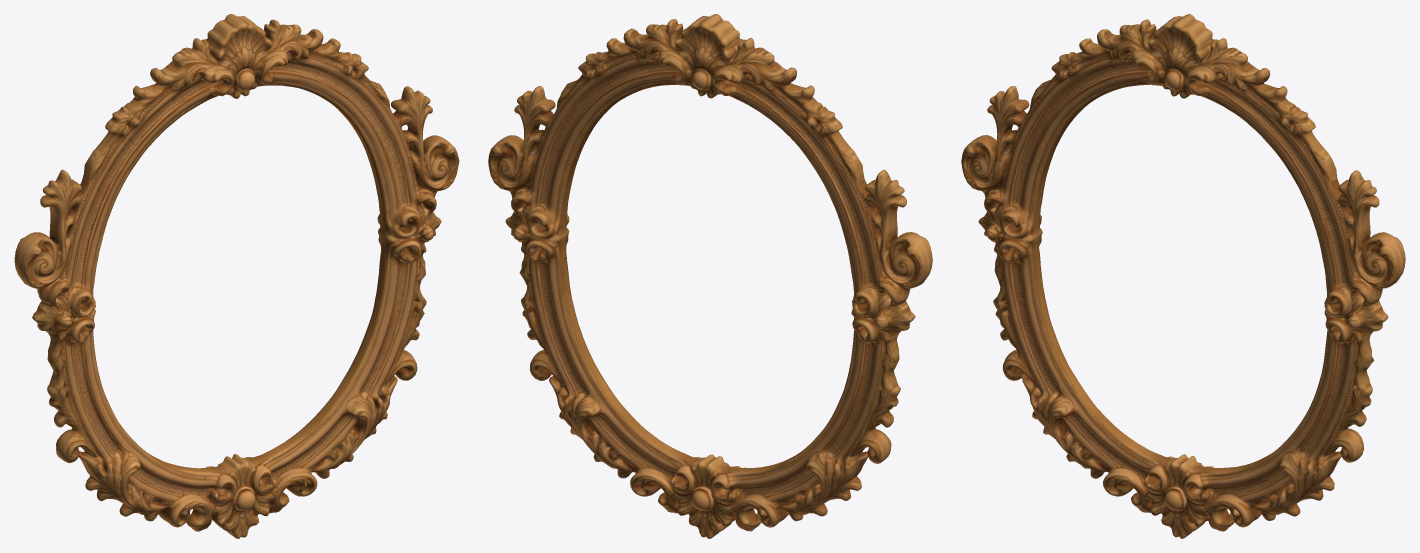
File: ornate-gold-frame.glb
The picture shows the model from 3 angles, left to right: view 1: azimuth 30°, elevation 25°; view 2: azimuth 150°, elevation 25°; view 3: azimuth 330°, elevation 25°; orthographic projection.
Visible parts, largest first — view 1: tripo_node_4b47f6c4-8ee1-4042-83e9-e341a03886d8; view 2: tripo_node_4b47f6c4-8ee1-4042-83e9-e341a03886d8; view 3: tripo_node_4b47f6c4-8ee1-4042-83e9-e341a03886d8.
Part boxes in pixels (left/top/right/bottom): tripo_node_4b47f6c4-8ee1-4042-83e9-e341a03886d8: left=14, top=14, right=459, bottom=538; tripo_node_4b47f6c4-8ee1-4042-83e9-e341a03886d8: left=488, top=14, right=932, bottom=538; tripo_node_4b47f6c4-8ee1-4042-83e9-e341a03886d8: left=961, top=14, right=1405, bottom=538.
Size of the model in its own units: 0.8652 by 0.977 by 0.0991.
1 material, 1 textured.
